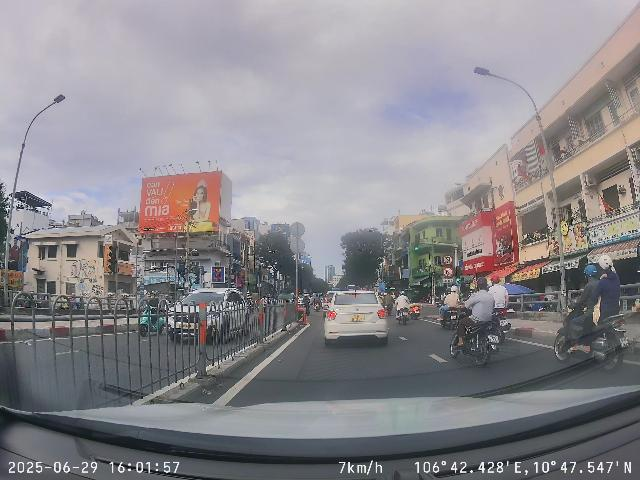103b-cam-oto-re-phai: (442, 266, 454, 278)
103c-cam-oto-re-trai: (442, 254, 453, 266)
